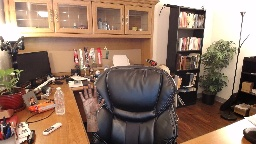Mano_aperta: (76, 82, 106, 115)
